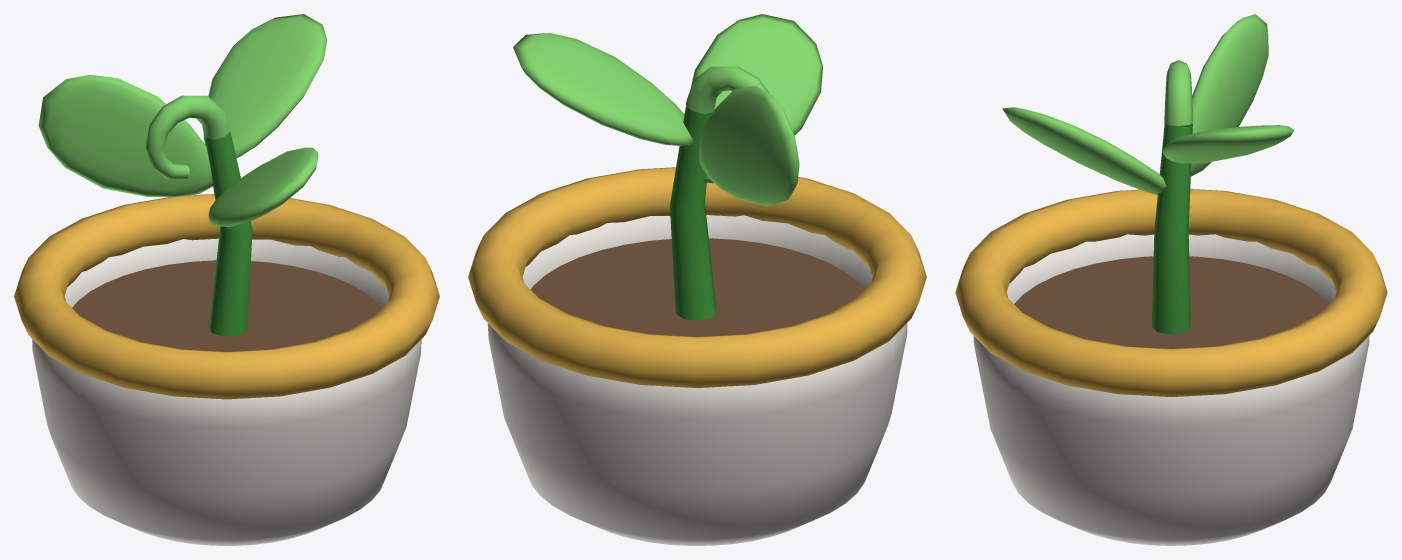
The model's file is gardener-pot.glb.
3 renders of one model, left to right at view 1: azimuth 30°, elevation 25°; view 2: azimuth 150°, elevation 25°; view 3: azimuth 270°, elevation 25°, orthographic. The views are drawn at different scales.
Visible parts, largest first — view 1: gardener-pot; view 2: gardener-pot; view 3: gardener-pot.
Boxes of the visible parts, bbox=[...] form: gardener-pot: bbox=[14, 14, 439, 545]; gardener-pot: bbox=[468, 14, 926, 545]; gardener-pot: bbox=[955, 14, 1387, 545].
Bounding box in the file's own units: 0.236 × 0.255 × 0.236.
